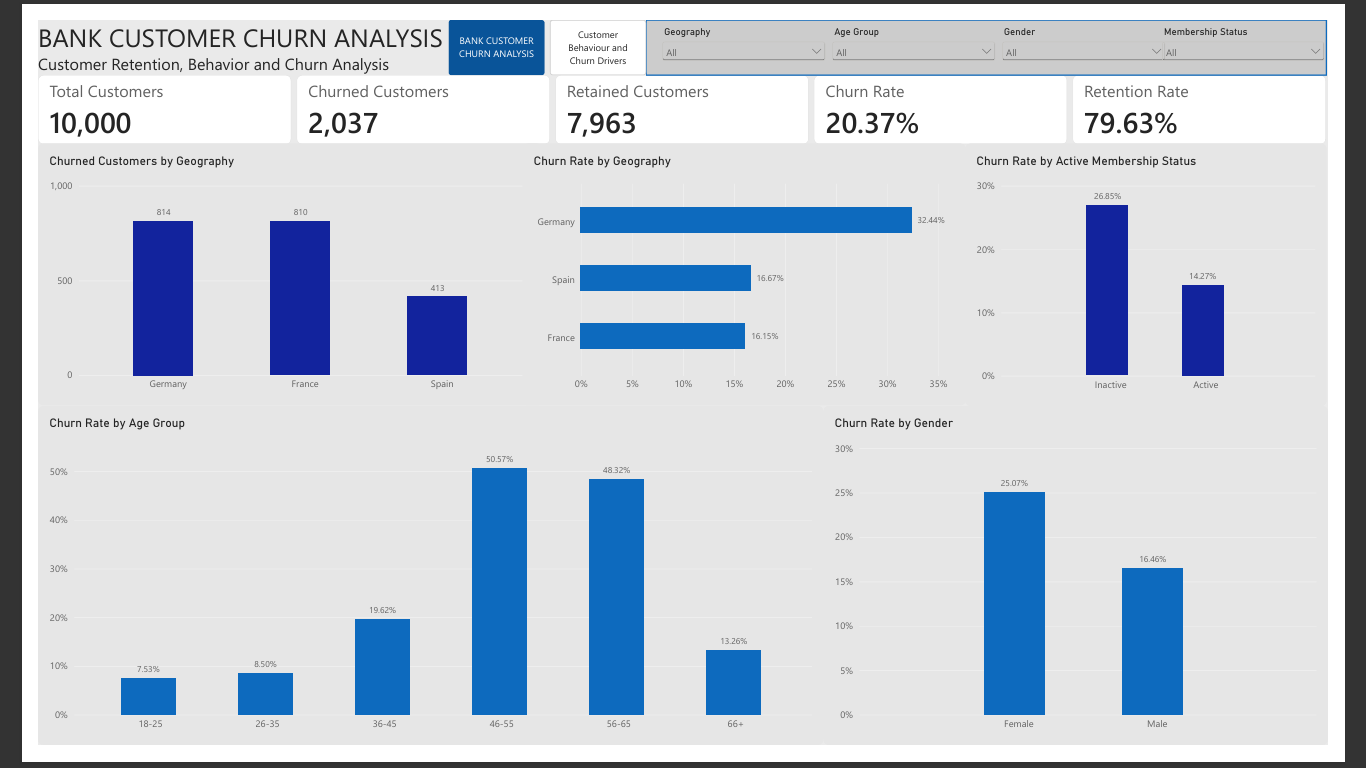

This screenshot's page, from the dashboard's own definition file:
{"tool":"powerbi","page":{"name":"BANK CUSTOMER CHURN ANALYSIS","canvas":[1920,1080],"ordinal":0},"visuals":[{"type":"cardVisual","fields":{"Data":["Bank_Churn_cleaned.Total Customers","Bank_Churn_cleaned.Churned Customers","Bank_Churn_cleaned.Retained Customers","Bank_Churn_cleaned.Churn Rate","Bank_Churn_cleaned.Retention Rate"]},"box":[0,82.5,1920.4,102.1],"z":0},{"type":"textbox","box":[0,302,1920,234],"z":1000},{"type":"textbox","box":[0,0,721.4,82.1],"z":2000},{"type":"clusteredColumnChart","fields":{"Category":["Bank_Churn_cleaned.Geography"],"Y":["Bank_Churn_cleaned.Churned Customers"]},"box":[0,183.9,750.9,390.6],"z":3000},{"type":"clusteredBarChart","title":"Churn Rate by Geography","fields":{"Category":["Bank_Churn_cleaned.Geography"],"Y":["Bank_Churn_cleaned.Churn Rate"]},"box":[721.4,183.6,659.6,390.4],"z":4000},{"type":"clusteredColumnChart","title":"Churn Rate by Gender","fields":{"Category":["Bank_Churn_cleaned.Gender"],"Y":["Bank_Churn_cleaned.Churn Rate"]},"box":[1168.6,574.6,751.7,505.4],"z":5000},{"type":"clusteredColumnChart","title":"Churn Rate by Age Group","fields":{"Category":["Bank_Churn_cleaned.Age Group"],"Y":["Bank_Churn_cleaned.Churn Rate"]},"box":[0,574.6,1168.6,505.4],"z":6000},{"type":"clusteredColumnChart","title":"Churn Rate by Active Membership Status","fields":{"Category":["Bank_Churn_cleaned.Membership Status"],"Y":["Bank_Churn_cleaned.Churn Rate"]},"box":[1380.2,183.6,537.8,391],"z":7000},{"type":"shape","box":[905,0,1013,82.1],"z":8000},{"type":"slicer","fields":{"Values":["Bank_Churn_cleaned.Geography"]},"box":[924.5,8.6,252.7,64.8],"z":9000},{"type":"slicer","fields":{"Values":["Bank_Churn_cleaned.Gender"]},"box":[1429.9,8.6,252.7,64.8],"z":10000},{"type":"slicer","fields":{"Values":["Bank_Churn_cleaned.Age Group"]},"box":[1177.2,8.6,252.7,64.8],"z":11000},{"type":"slicer","fields":{"Values":["Bank_Churn_cleaned.Membership Status"]},"box":[1667.5,8.6,252.7,64.8],"z":12000},{"type":"pageNavigator","box":[611.3,0,293.8,82.1],"z":13000}]}

Visuals, with their boxes in screenshot pixels (x1, y1, x2, y2), scaled from the page's 1920x1080 canvas onto the 1366x768 screenshot:
cardVisual - Bank_Churn_cleaned.Total Customers x Bank_Churn_cleaned.Churned Customers: x1=0 y1=59 x2=1365 y2=131
textbox: x1=0 y1=215 x2=1365 y2=381
textbox: x1=0 y1=0 x2=513 y2=58
clusteredColumnChart - Bank_Churn_cleaned.Geography x Bank_Churn_cleaned.Churned Customers: x1=0 y1=131 x2=534 y2=409
"Churn Rate by Geography" clusteredBarChart: x1=513 y1=131 x2=983 y2=408
"Churn Rate by Gender" clusteredColumnChart: x1=831 y1=409 x2=1365 y2=767
"Churn Rate by Age Group" clusteredColumnChart: x1=0 y1=409 x2=831 y2=767
"Churn Rate by Active Membership Status" clusteredColumnChart: x1=982 y1=131 x2=1365 y2=409
shape: x1=644 y1=0 x2=1365 y2=58
slicer - Bank_Churn_cleaned.Geography: x1=658 y1=6 x2=838 y2=52
slicer - Bank_Churn_cleaned.Gender: x1=1017 y1=6 x2=1197 y2=52
slicer - Bank_Churn_cleaned.Age Group: x1=838 y1=6 x2=1017 y2=52
slicer - Bank_Churn_cleaned.Membership Status: x1=1186 y1=6 x2=1365 y2=52
pageNavigator: x1=435 y1=0 x2=644 y2=58
